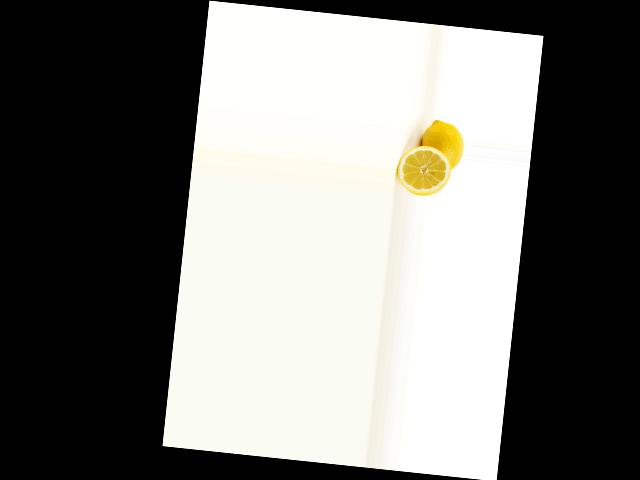lemon: (413, 116, 466, 172)
